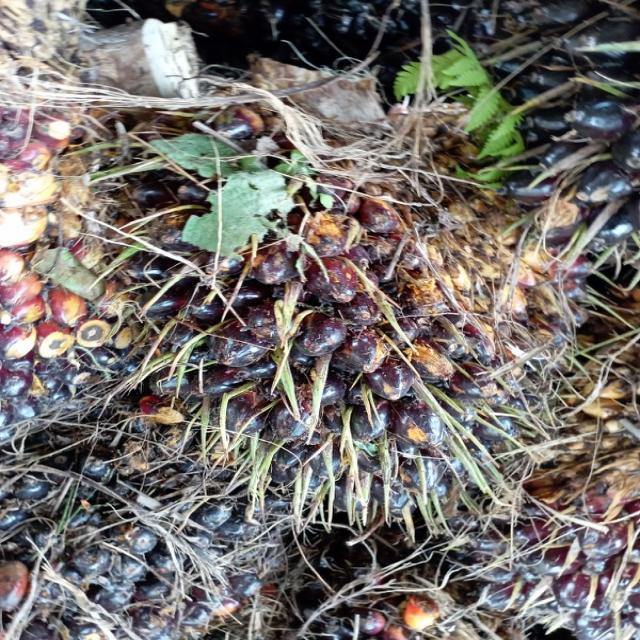fraksi 00: (136, 112, 590, 489)
